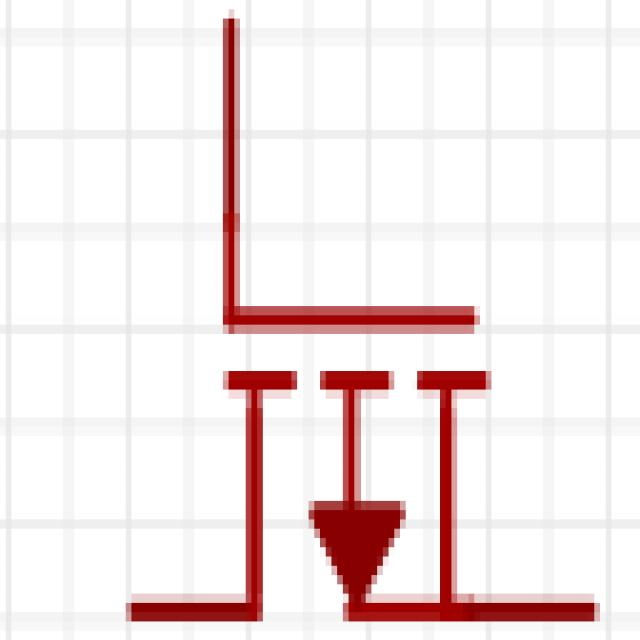pmos: (122, 16, 605, 640)
